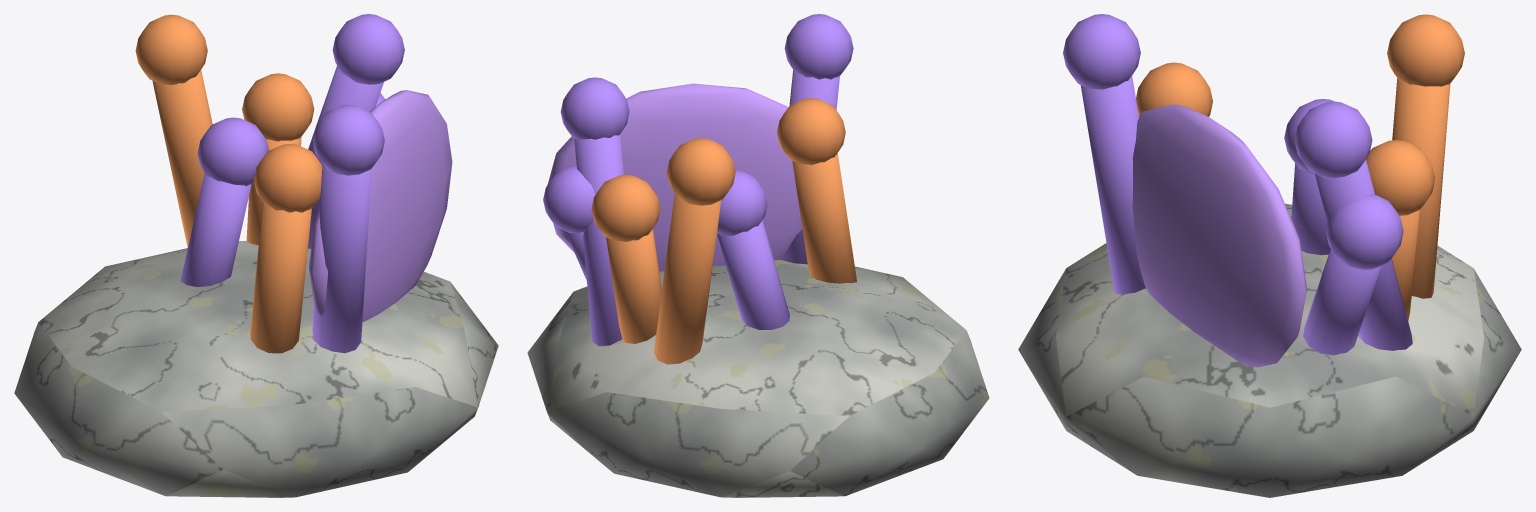
Rendered from coral1.glb.
The picture shows the model from 3 angles, left to right: view 1: azimuth 30°, elevation 25°; view 2: azimuth 150°, elevation 25°; view 3: azimuth 270°, elevation 25°; orthographic projection. The views are drawn at different scales.
Visible parts, largest first — view 1: coral1; view 2: coral1; view 3: coral1.
Part boxes in pixels (x1=…): coral1: x1=14, y1=14, x2=498, y2=497; coral1: x1=527, y1=14, x2=989, y2=497; coral1: x1=1018, y1=14, x2=1521, y2=497.
Bounding box in the file's own units: 0.8591 × 0.8048 × 0.84.
4 materials, 1 textured.
